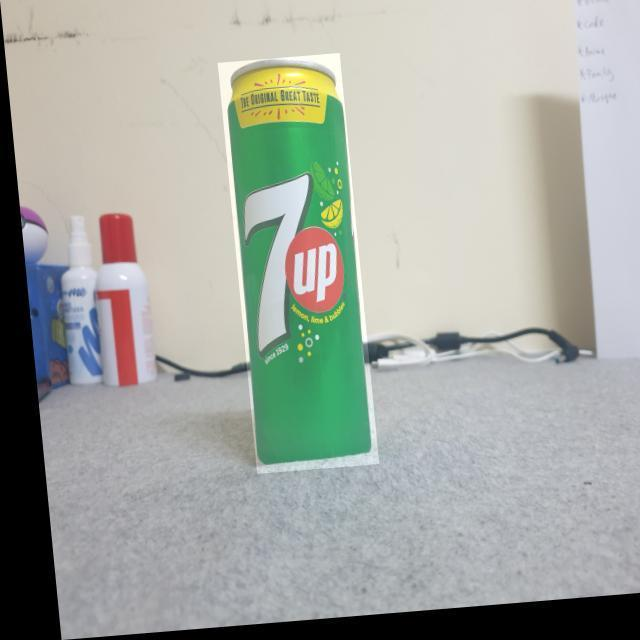trash: (216, 57, 382, 470)
